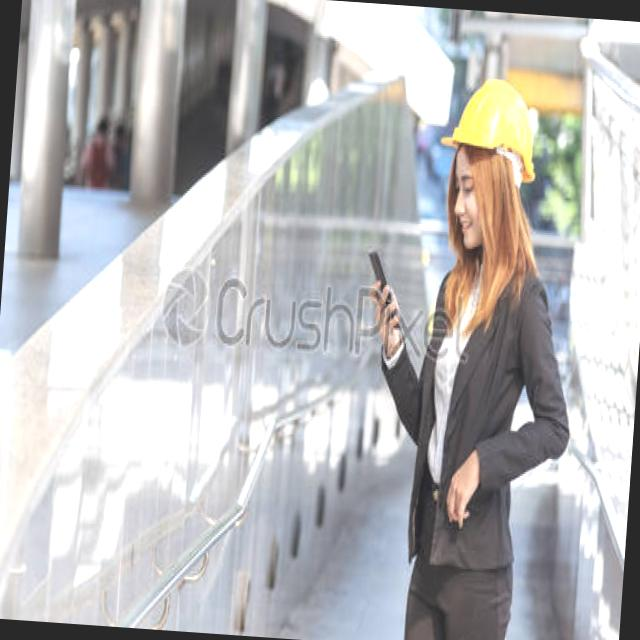helmet: (438, 69, 542, 192)
no-goggles: (440, 168, 495, 214)
no-vest: (402, 253, 562, 578)
